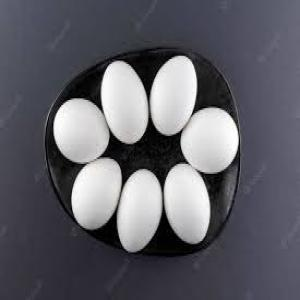Egg: (101, 60, 150, 144), (180, 108, 240, 176), (164, 163, 212, 246), (150, 55, 198, 136), (72, 157, 123, 232), (54, 96, 110, 164), (118, 167, 162, 252)
